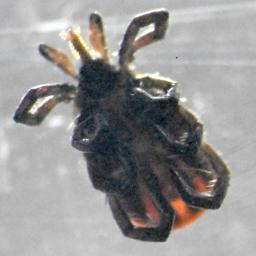Ixodes scapularis: (16, 10, 233, 241)
